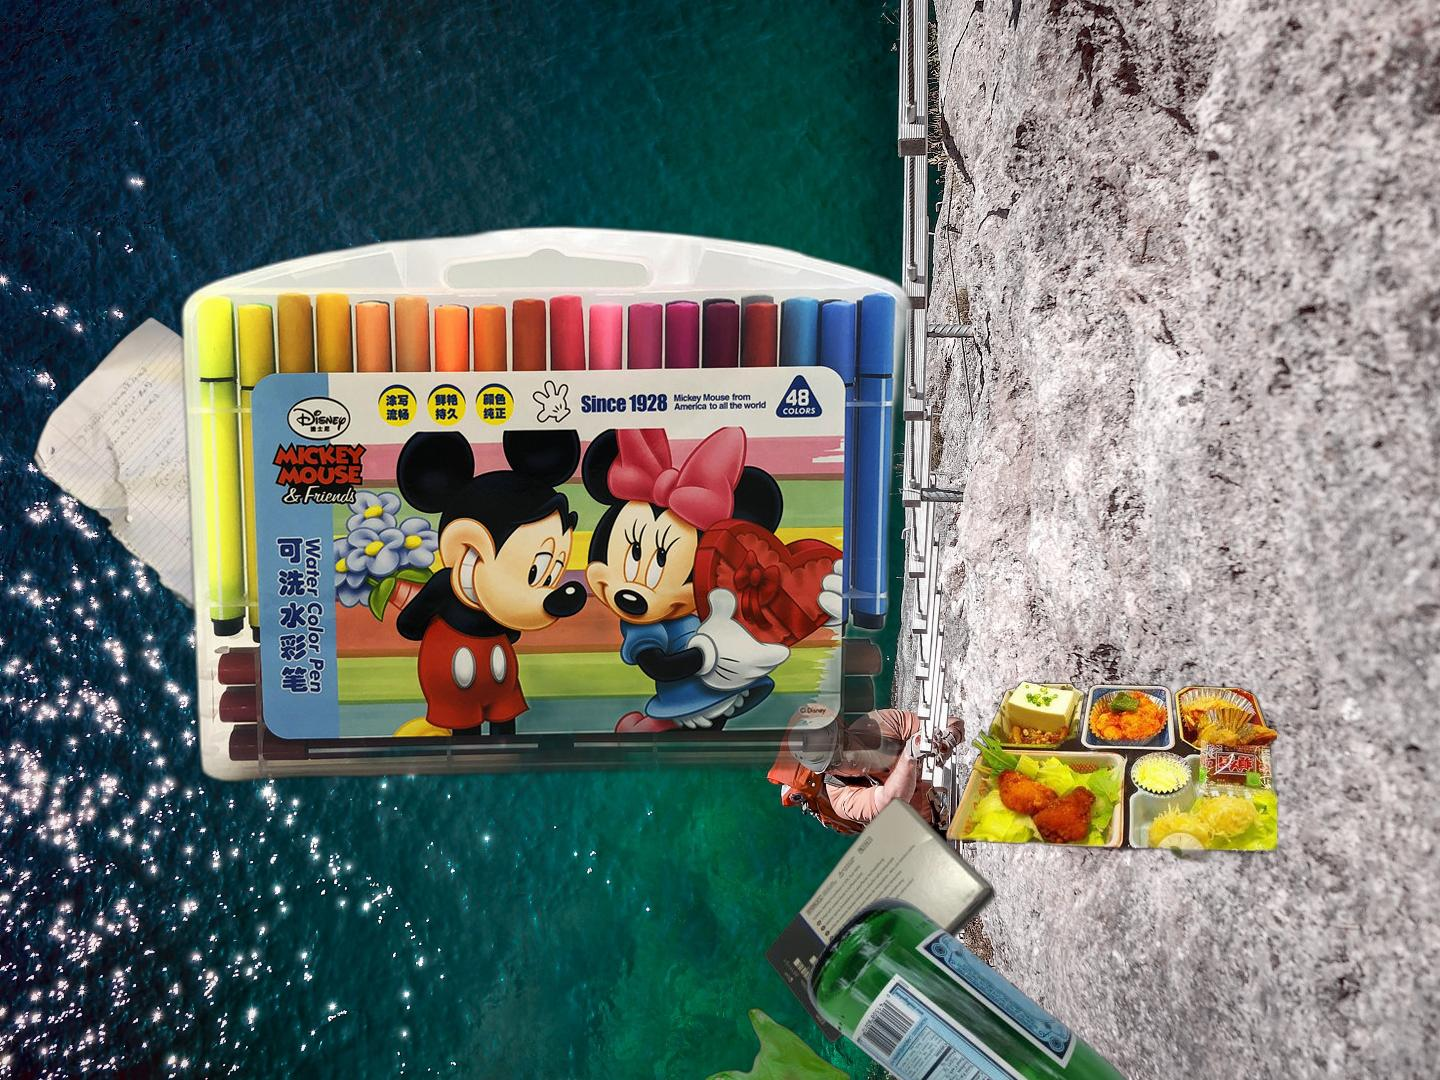biological: (942, 680, 1277, 900)
glass: (802, 894, 1205, 1080)
paper: (29, 314, 331, 626), (761, 794, 1001, 1045)
penholder: (172, 220, 922, 863)
plastic-bag: (698, 1005, 854, 1080)
